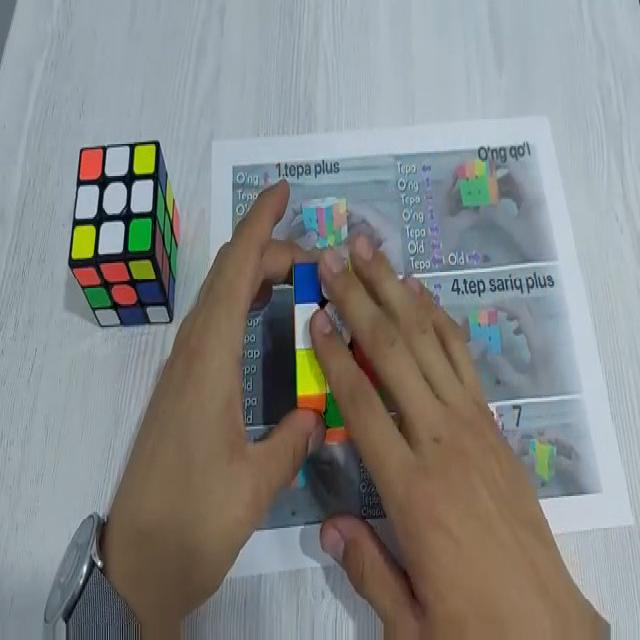Rub: (71, 140, 176, 327), (289, 254, 383, 444)
